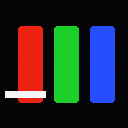3 line_h: (5, 91, 45, 97)
